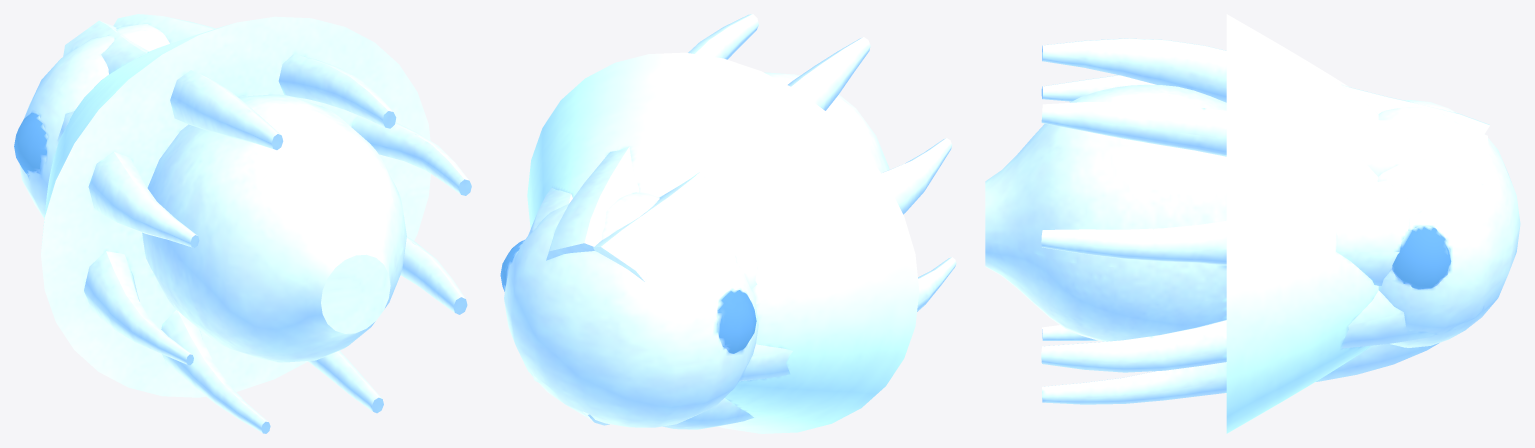
File: bathypolypus_arcticus.glb
3 renders of one model, left to right at view 1: azimuth 30°, elevation 25°; view 2: azimuth 150°, elevation 25°; view 3: azimuth 270°, elevation 25°, orthographic.
Visible parts, largest first — view 1: bathypolypus_arcticus; view 2: bathypolypus_arcticus; view 3: bathypolypus_arcticus.
Boxes of the visible parts, x1,y1,x2,y2 form: bathypolypus_arcticus: [14, 14, 471, 433]; bathypolypus_arcticus: [500, 14, 956, 433]; bathypolypus_arcticus: [985, 14, 1520, 433].
Size of the model in its own units: 0.3374 by 0.3042 by 0.3939.
Materials: 2 (2 with a texture image).
